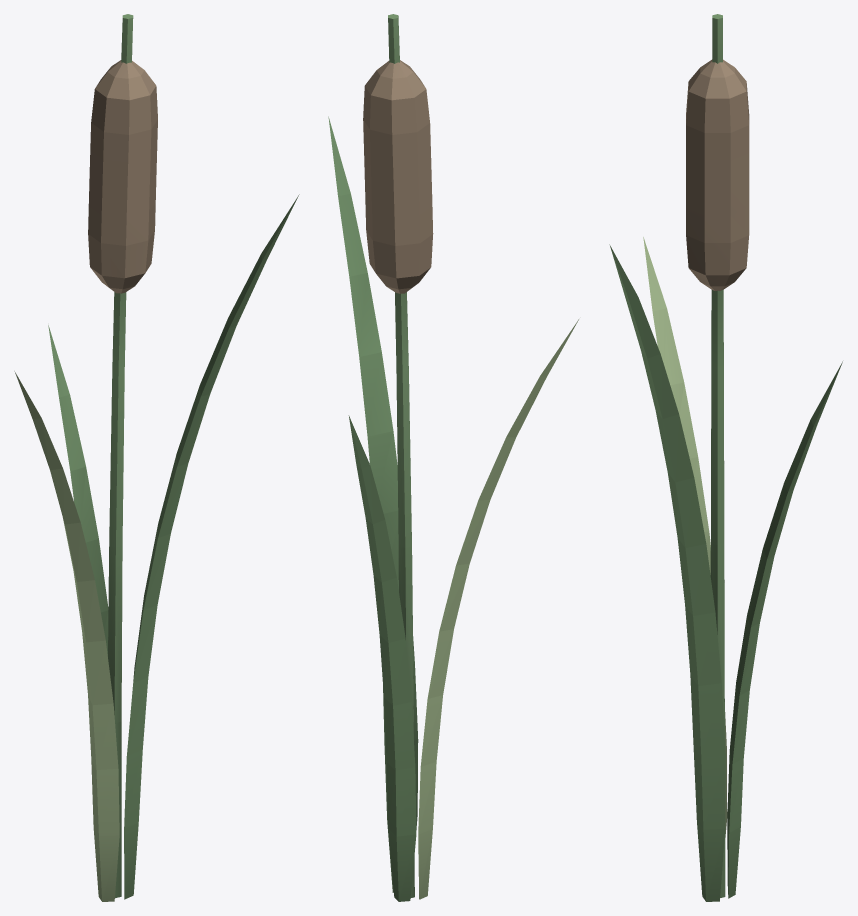
Rendered from cattail.glb.
The picture shows the model from 3 angles, left to right: view 1: azimuth 30°, elevation 25°; view 2: azimuth 150°, elevation 25°; view 3: azimuth 270°, elevation 25°; orthographic projection.
Visible parts, largest first — view 1: cattail; view 2: cattail; view 3: cattail.
Boxes of the visible parts, x1,y1,x2,y2 form: cattail: [14, 14, 299, 901]; cattail: [328, 14, 578, 901]; cattail: [609, 14, 842, 901].
Size of the model in its own units: 0.5788 by 1.8 by 0.4315.
